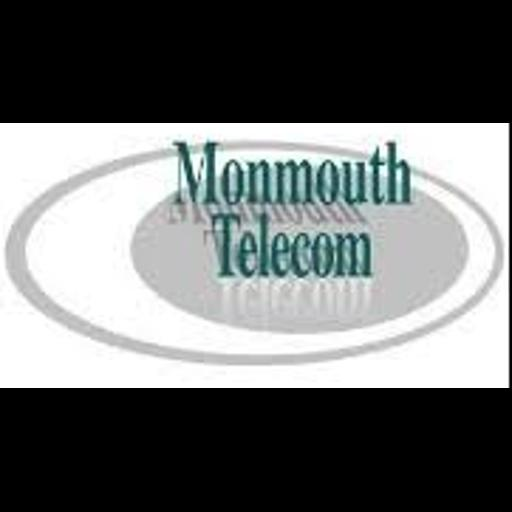Monmouth Telecom: (0, 123, 512, 388)
